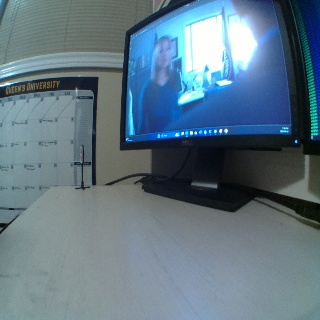sign_noentry: (79, 146, 84, 162)
